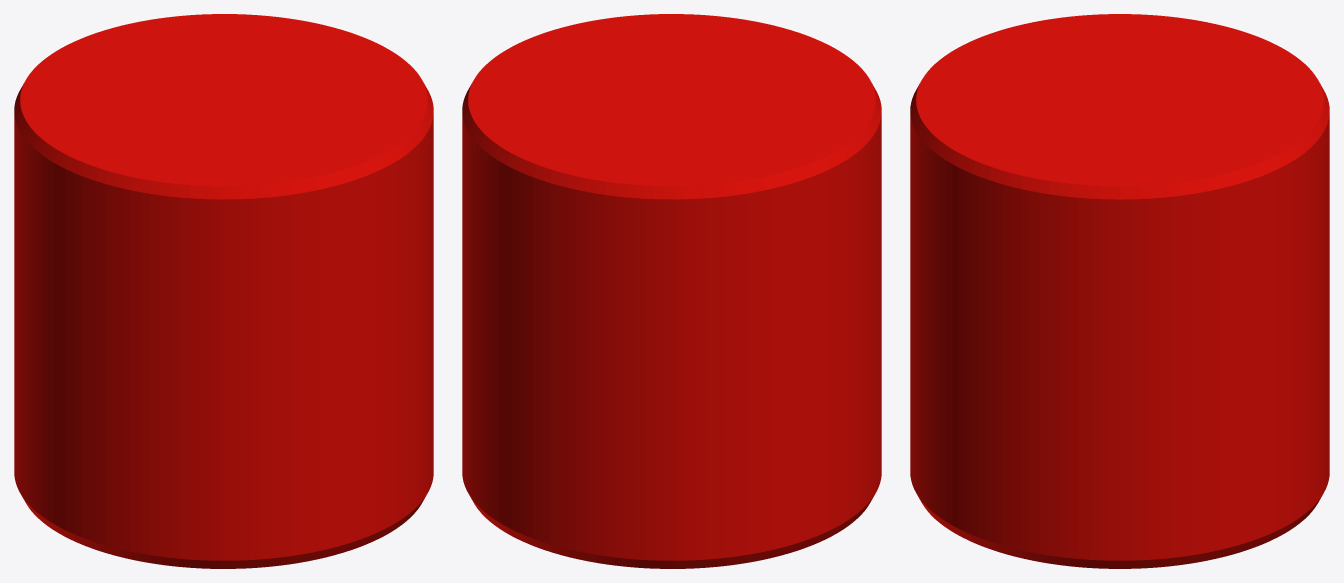
3 renders of one model, left to right at view 1: azimuth 30°, elevation 25°; view 2: azimuth 150°, elevation 25°; view 3: azimuth 270°, elevation 25°, orthographic.
Parts seen in each view (by area): view 1: Circle; view 2: Circle; view 3: Circle.
Part boxes in pixels (x1,y1,x2,y2): Circle: (14, 14, 433, 568); Circle: (462, 14, 881, 568); Circle: (910, 14, 1329, 568).
Bounding box in the file's own units: 0.149 × 0.149 × 0.15.
